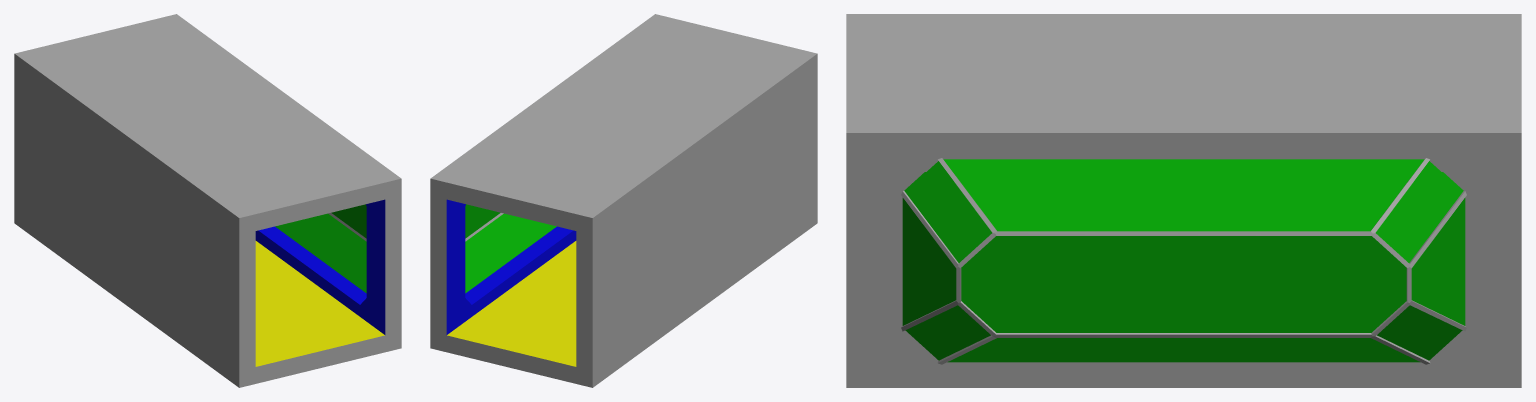
File: Hallway Window.fbx
3 views of the same model, side by side, from view 1: azimuth 30°, elevation 25°; view 2: azimuth 150°, elevation 25°; view 3: azimuth 270°, elevation 25° (orthographic). The views are drawn at different scales.
Visible parts, largest first — view 1: hallway_Window; view 2: hallway_Window; view 3: hallway_Window.
Boxes of the visible parts, <box> form: hallway_Window: <box>14,14,401,387</box>; hallway_Window: <box>430,14,817,387</box>; hallway_Window: <box>846,14,1521,387</box>.
Bounding box in the file's own units: 6.05 × 5 × 12.
